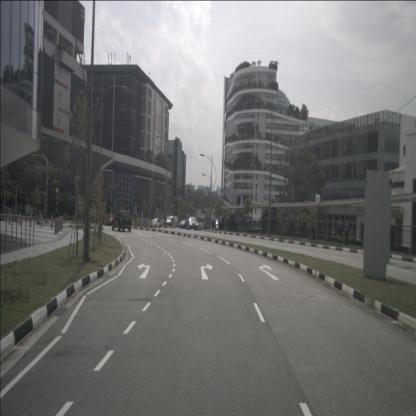human-pedestrian-adult: (336, 216, 342, 245), (311, 219, 318, 240), (344, 217, 349, 245), (226, 212, 231, 231), (219, 213, 224, 231), (230, 213, 234, 232), (236, 214, 240, 232), (240, 216, 244, 232), (235, 214, 238, 232), (244, 217, 247, 233), (211, 218, 214, 230), (214, 218, 217, 230)
vehicle-car: (112, 210, 132, 232), (165, 215, 179, 227), (149, 218, 163, 229), (187, 216, 198, 230), (179, 219, 192, 230), (106, 218, 120, 226)
vehicle-truck: (195, 216, 212, 231)
